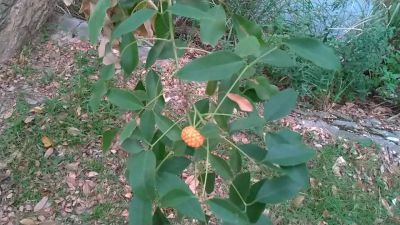eggs: (181, 122, 204, 151)
